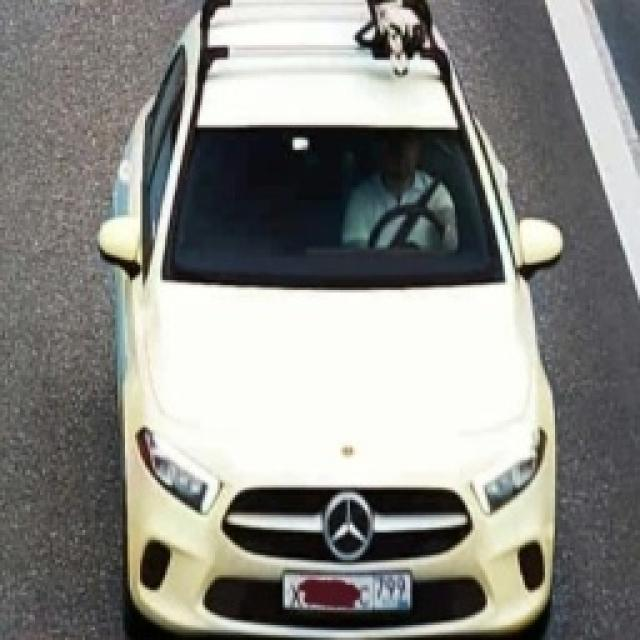windshield: (159, 113, 512, 311)
